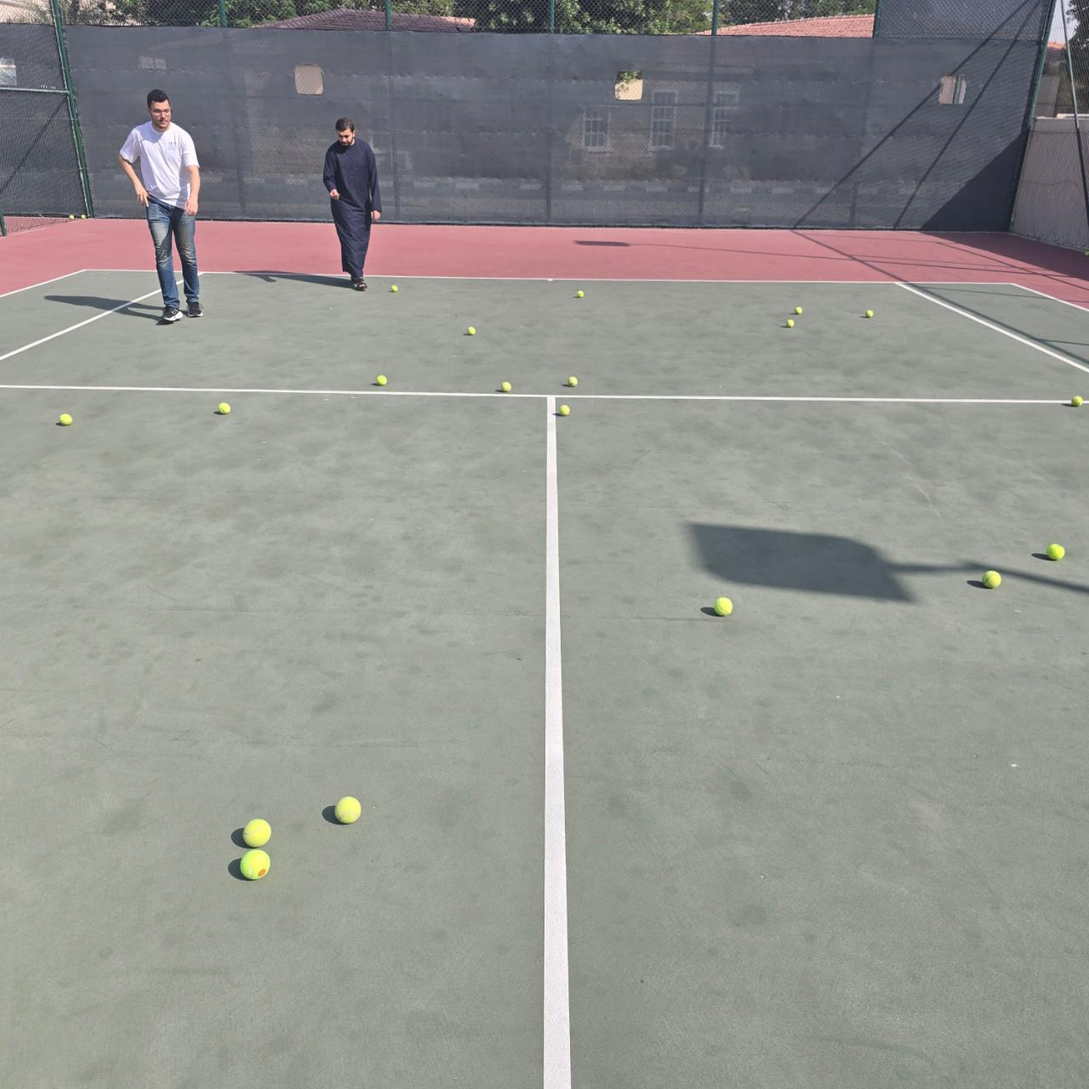tennis-ball: (238, 847, 271, 880), (242, 816, 271, 847), (334, 794, 362, 824), (713, 595, 733, 616), (981, 568, 1001, 588), (1046, 541, 1064, 560), (59, 414, 73, 426), (1071, 394, 1083, 408), (218, 402, 231, 414), (559, 404, 571, 417), (501, 381, 512, 393), (567, 376, 578, 387), (377, 375, 387, 386), (467, 327, 476, 335), (865, 310, 874, 318), (576, 290, 584, 298), (786, 319, 794, 327), (794, 306, 802, 314), (391, 285, 397, 292)
